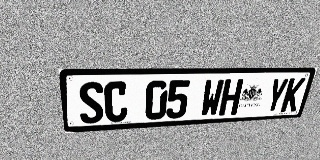0: (145, 80, 169, 120)
5: (166, 80, 190, 119)
C: (104, 81, 128, 122)
H: (218, 79, 244, 116)
K: (280, 78, 306, 112)
S: (78, 82, 104, 124)
W: (199, 79, 224, 117)
Y: (263, 78, 289, 113)
